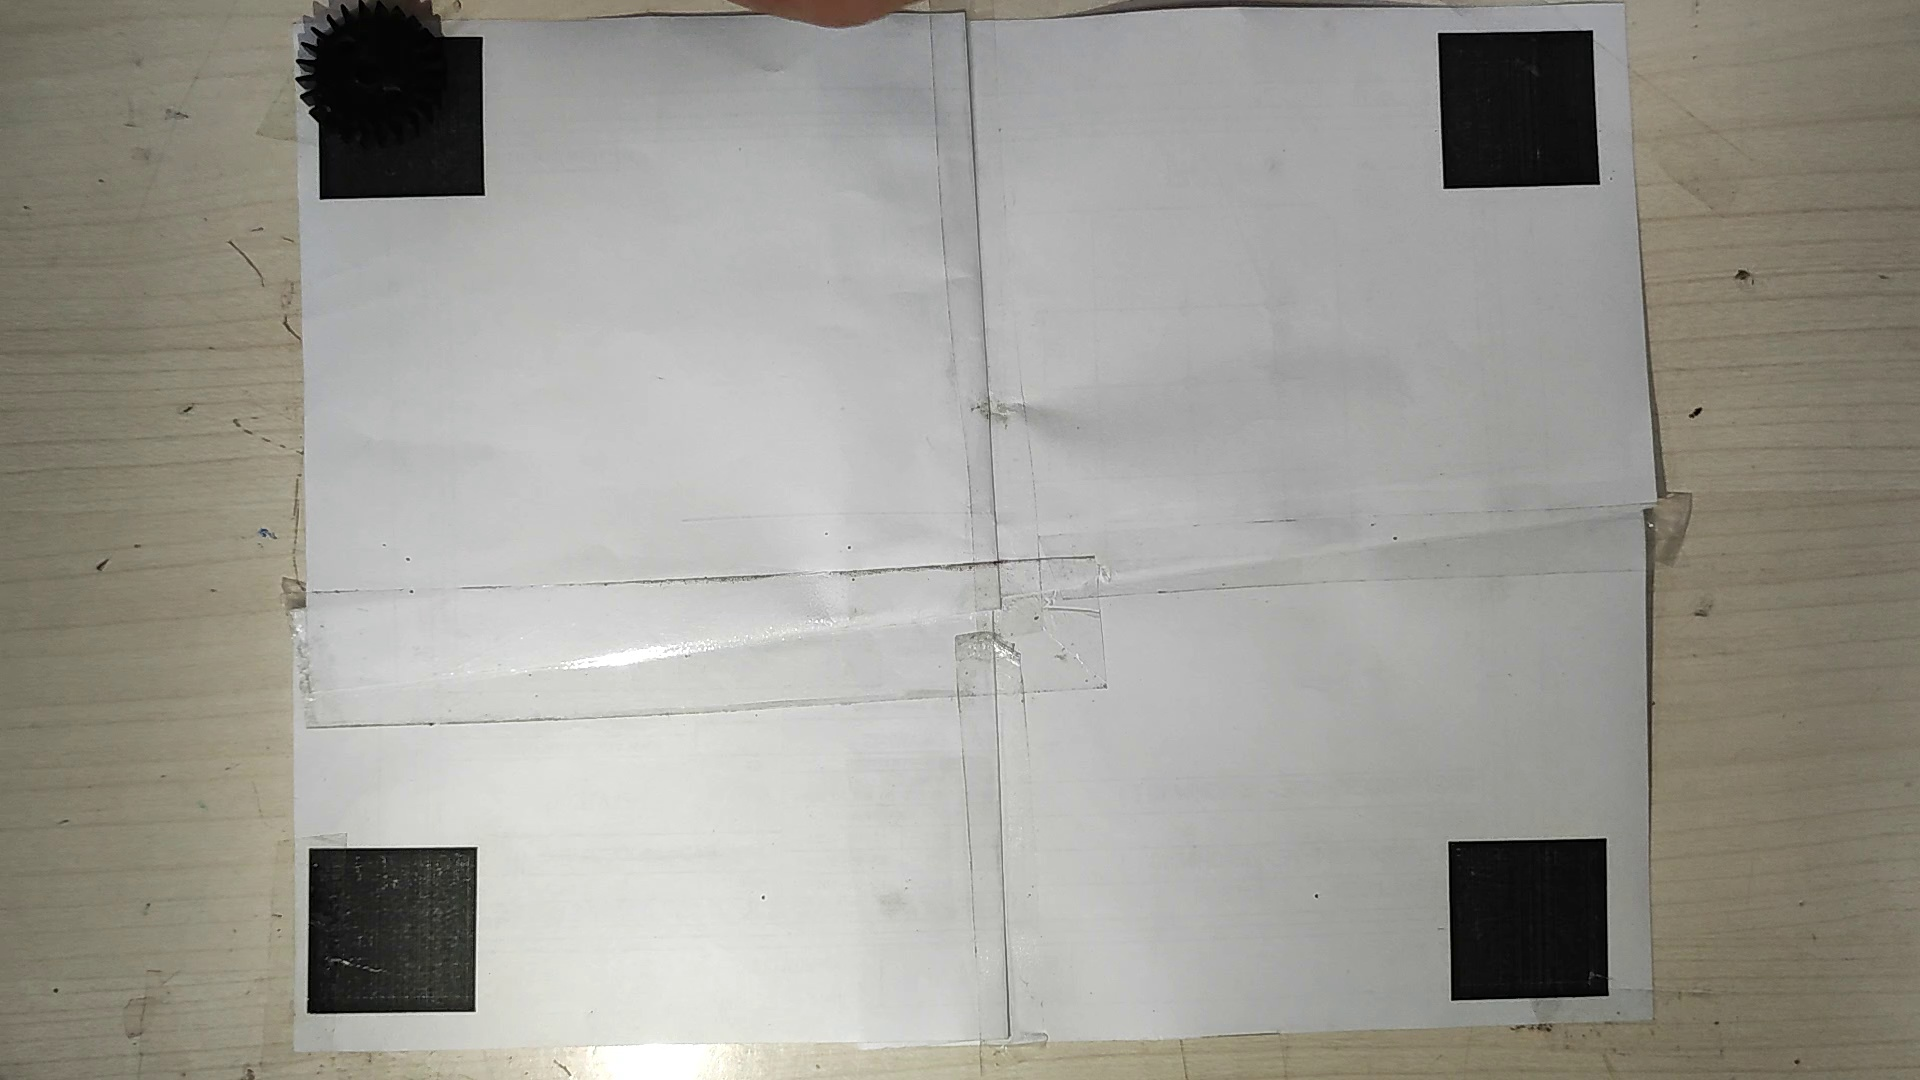Gear: (289, 0, 450, 146)
